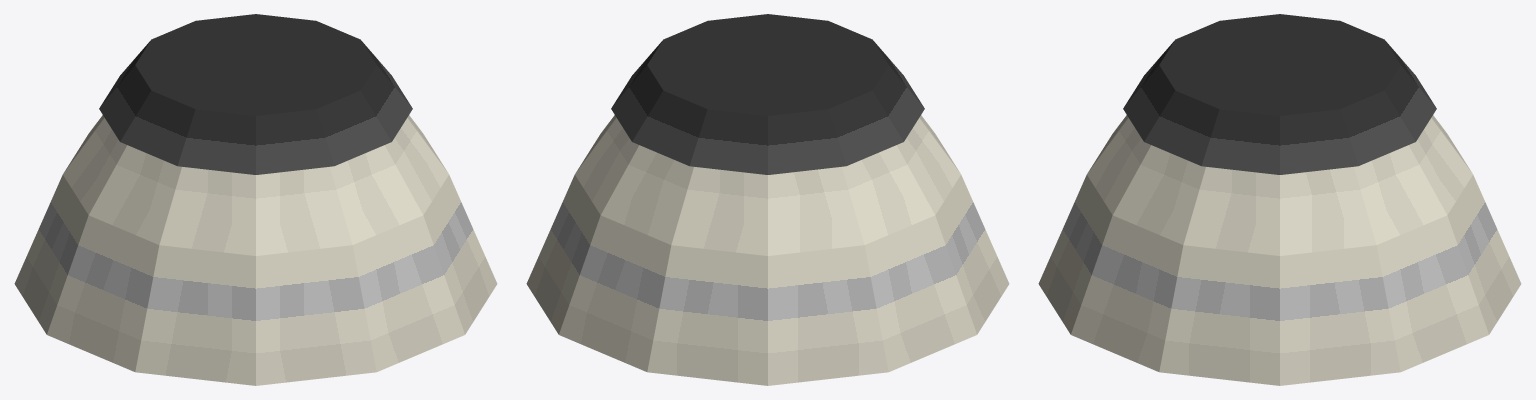
The model's file is mp_w_10_buster.obj.
3 renders of one model, left to right at view 1: azimuth 30°, elevation 25°; view 2: azimuth 150°, elevation 25°; view 3: azimuth 270°, elevation 25°, orthographic.
Visible parts, largest first — view 1: Circle; view 2: Circle; view 3: Circle.
Boxes of the visible parts, x1=… form: Circle: x1=14, y1=14, x2=497, y2=385; Circle: x1=526, y1=14, x2=1009, y2=385; Circle: x1=1038, y1=14, x2=1521, y2=385.
Size of the model in its own units: 1 by 0.5 by 1.
